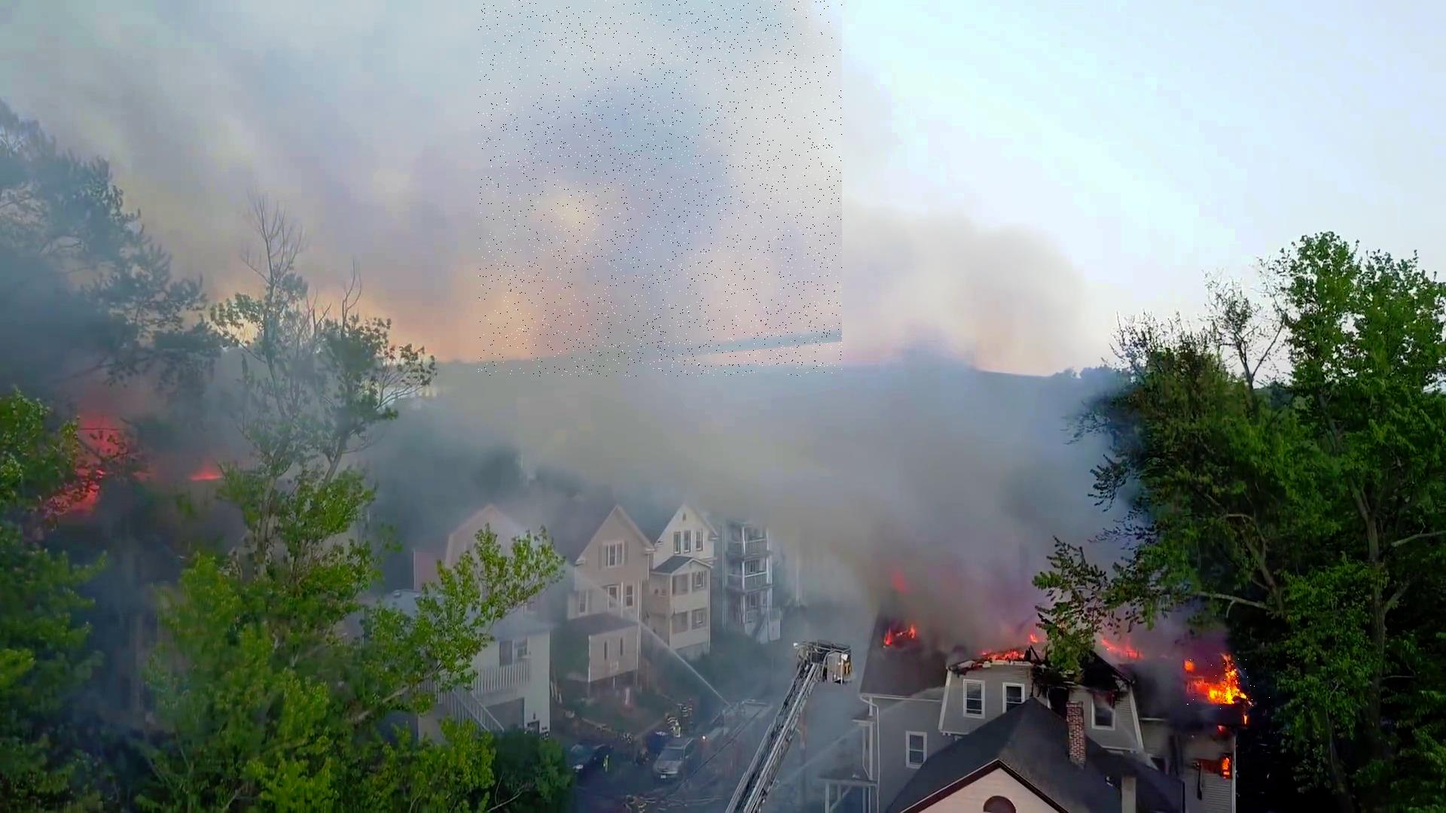fire: (1186, 653, 1275, 711)
smoke: (478, 0, 842, 377)
